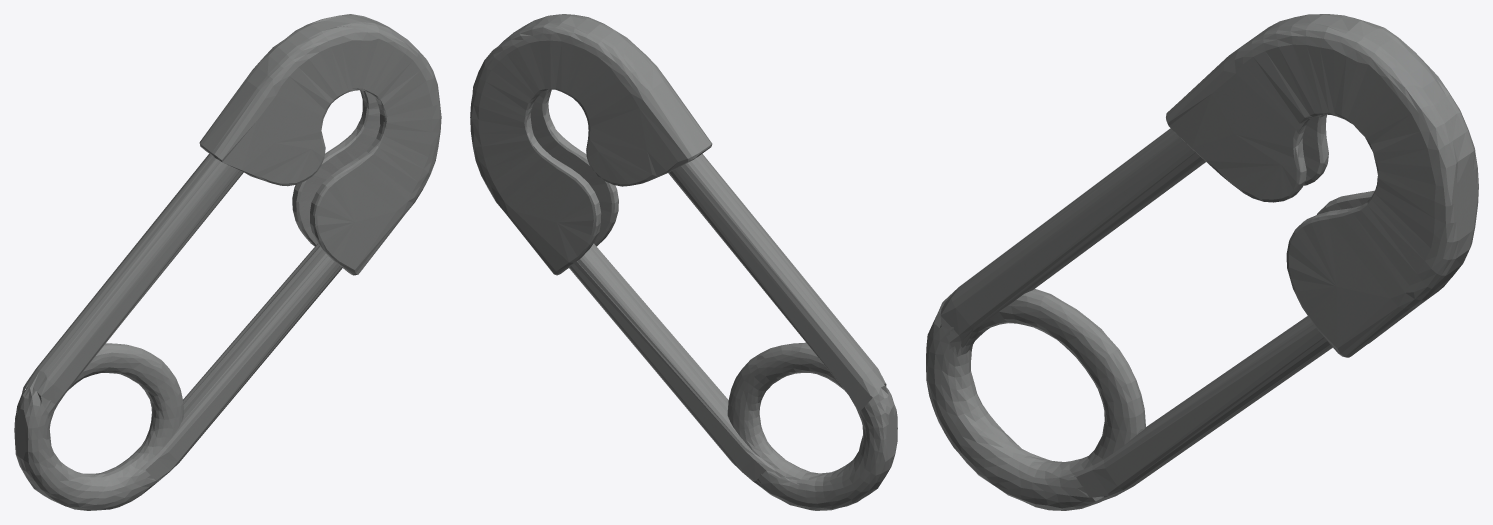
File: Safety_Pin.glb
The picture shows the model from 3 angles, left to right: view 1: azimuth 30°, elevation 25°; view 2: azimuth 150°, elevation 25°; view 3: azimuth 330°, elevation 25°; orthographic projection. The views are drawn at different scales.
Parts seen in each view (by area): view 1: mesh_node; view 2: mesh_node; view 3: mesh_node.
Boxes of the visible parts, x1,y1,x2,y2 form: mesh_node: [14, 14, 441, 510]; mesh_node: [470, 14, 897, 510]; mesh_node: [926, 14, 1478, 510].
Size of the model in its own units: 1 by 1 by 0.1035.
1 material, 1 textured.
